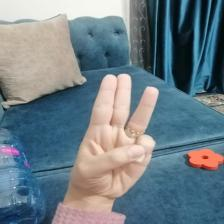five: (80, 69, 159, 197)
